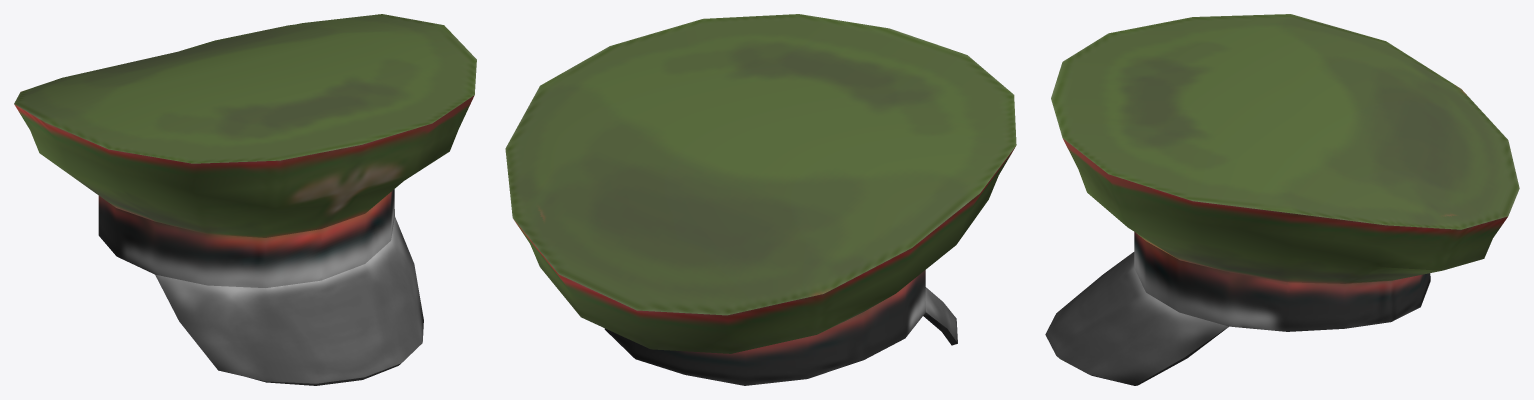
Rendered from NaziHatModel.fbx.
3 renders of one model, left to right at view 1: azimuth 30°, elevation 25°; view 2: azimuth 150°, elevation 25°; view 3: azimuth 270°, elevation 25°, orthographic. The views are drawn at different scales.
Parts seen in each view (by area): view 1: Circle; view 2: Circle; view 3: Circle.
Part boxes in pixels (x1,y1,x2,y2): Circle: (14,14,476,385); Circle: (505,14,1016,385); Circle: (1045,14,1519,385).
Size of the model in its own units: 307 by 173 by 309.
1 material, 1 textured.
